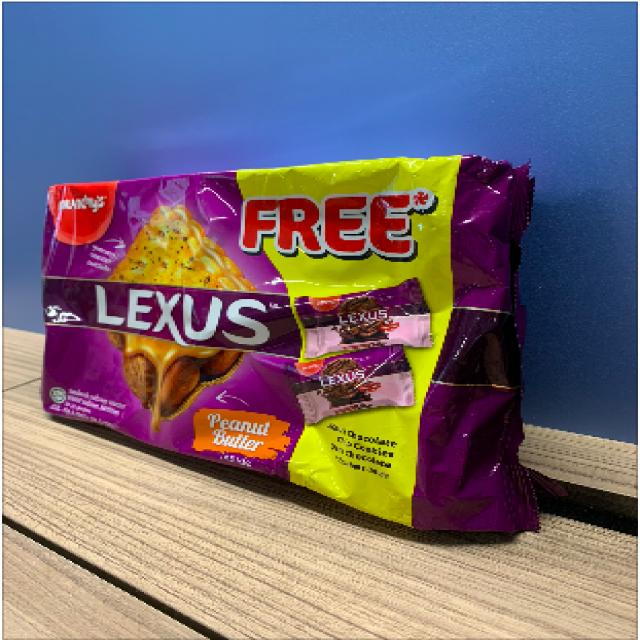object_name: (52, 163, 507, 518)
